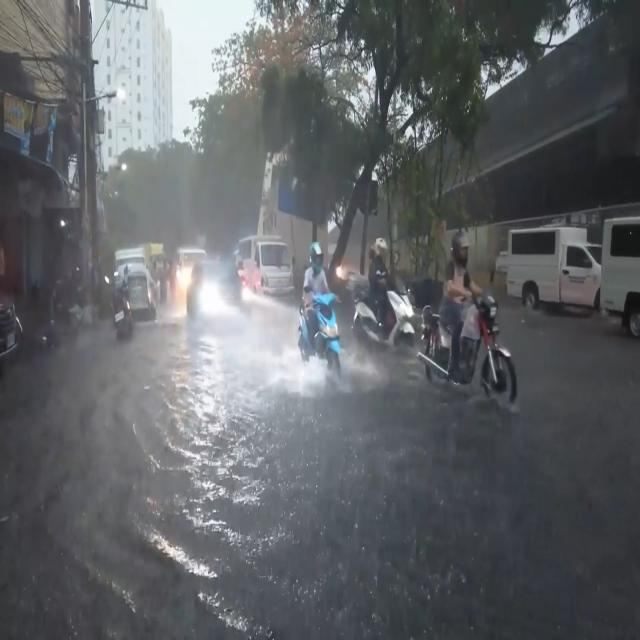full: (452, 231, 469, 267), (310, 243, 324, 274)
half: (374, 236, 388, 260)
